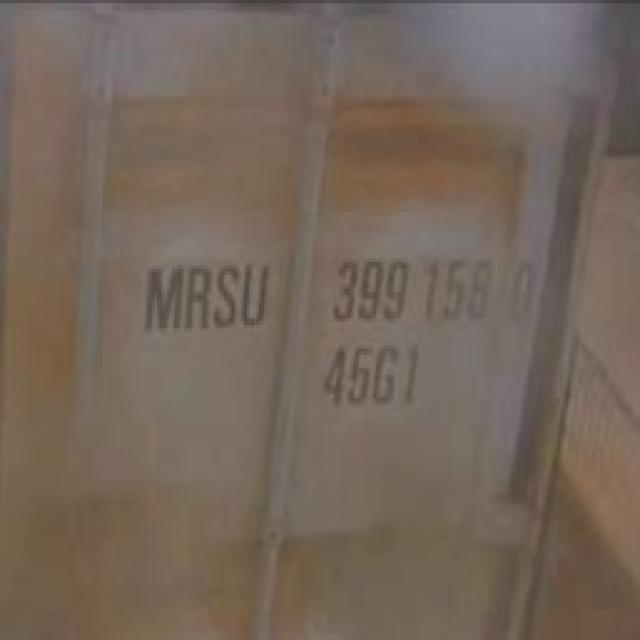dv: (502, 250, 547, 329)
owner: (138, 250, 274, 344)
serial: (330, 244, 492, 326)
size: (313, 336, 431, 413)
